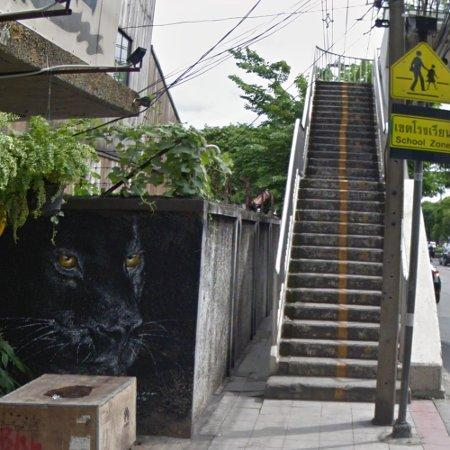stairs: (267, 82, 385, 402)
